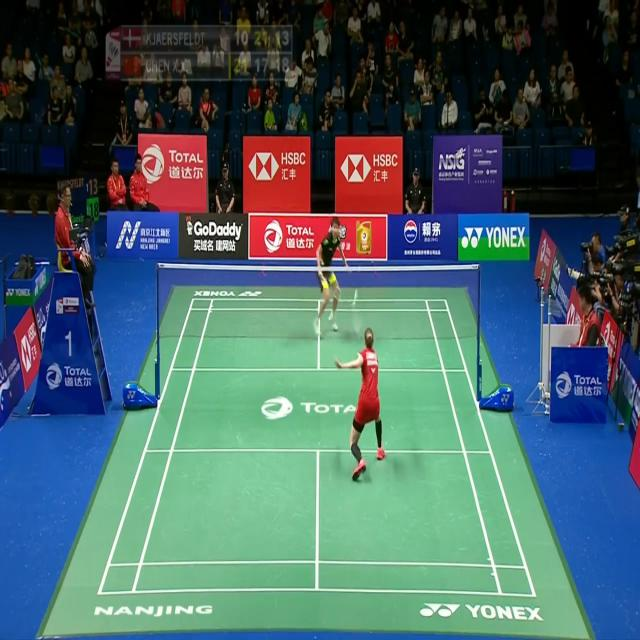Player1: (332, 321, 392, 483)
Player2: (312, 217, 353, 353)
